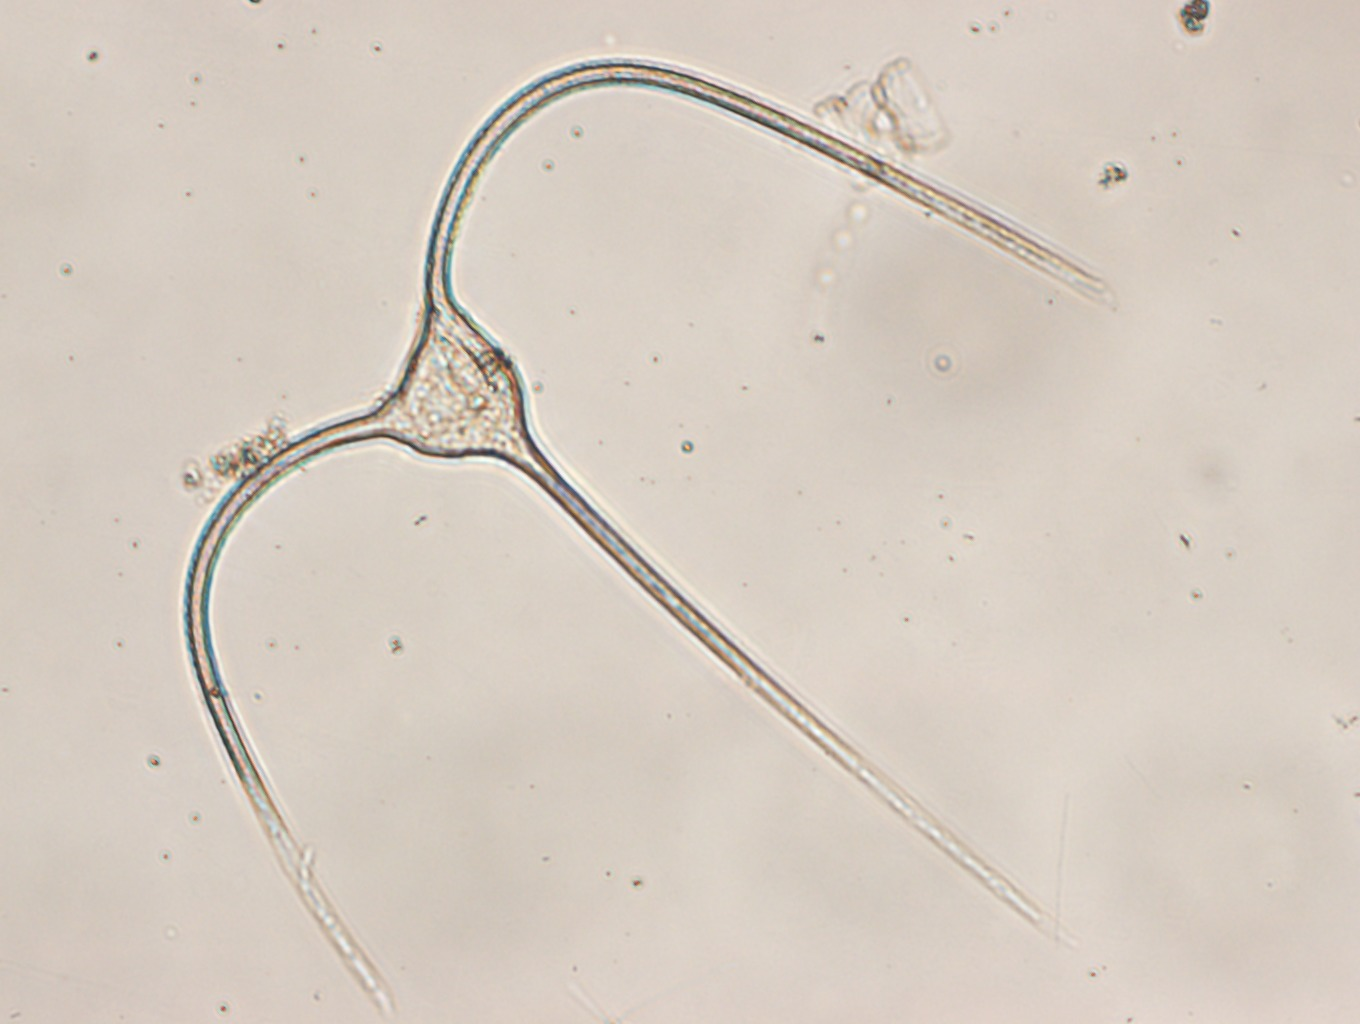ceratium trichoceros: (182, 57, 1110, 1013)
